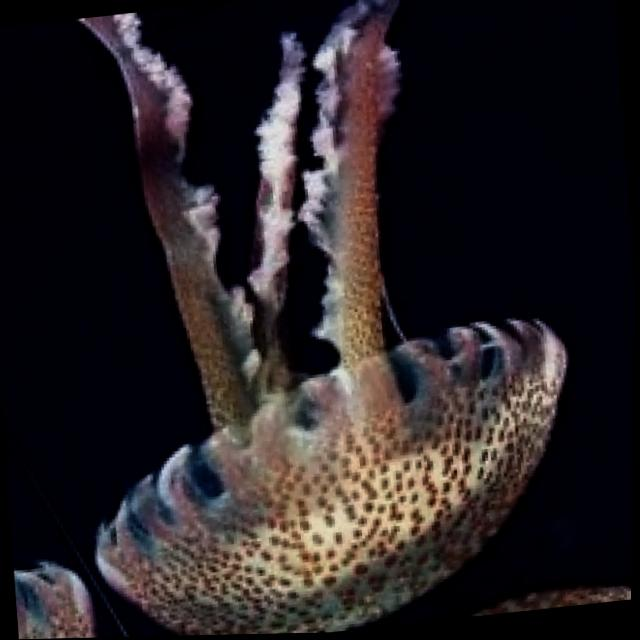Moon-jellyfish: (35, 0, 594, 639)
